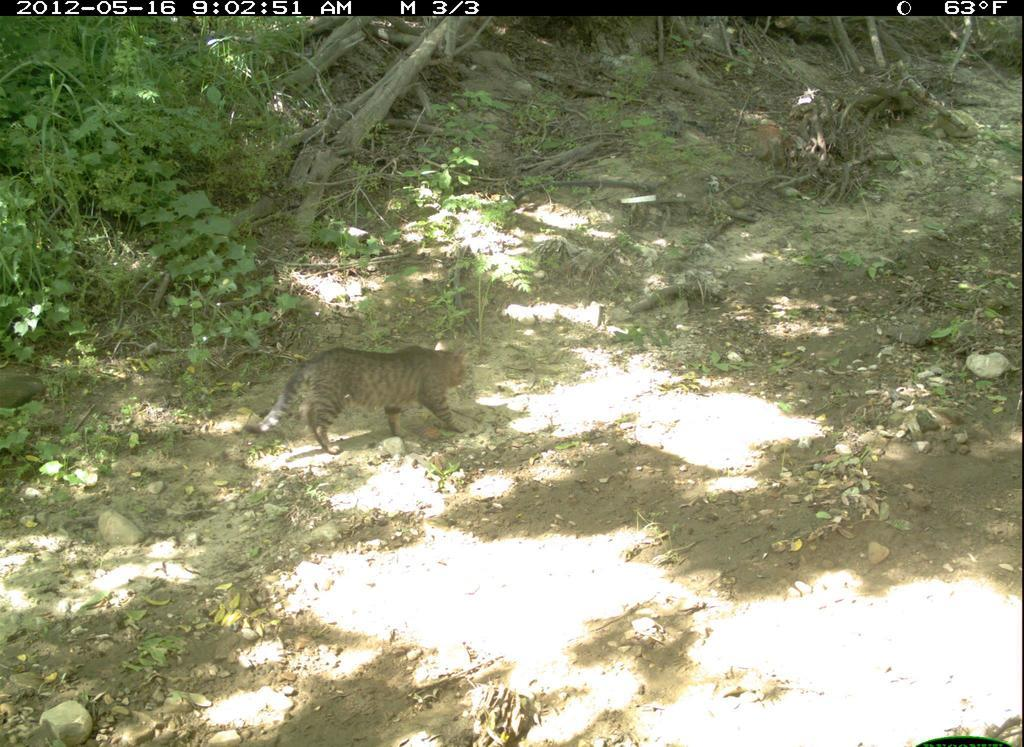cat: (237, 342, 486, 461)
